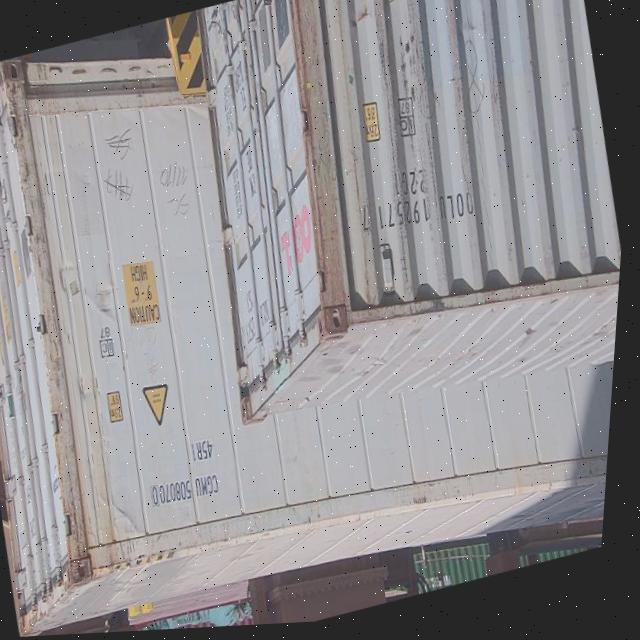rust: (256, 20, 394, 365), (27, 376, 128, 606)
